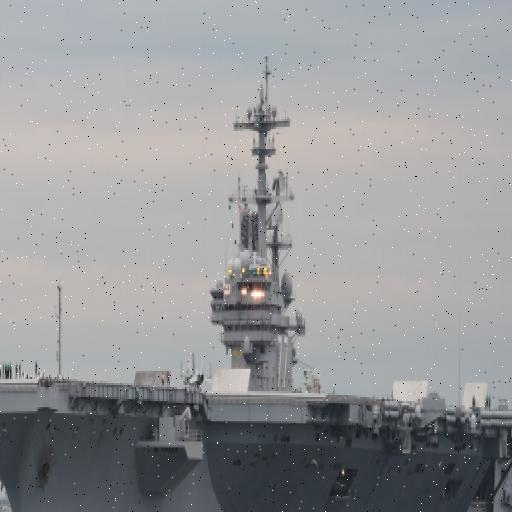Portanaves: (1, 49, 512, 512)
